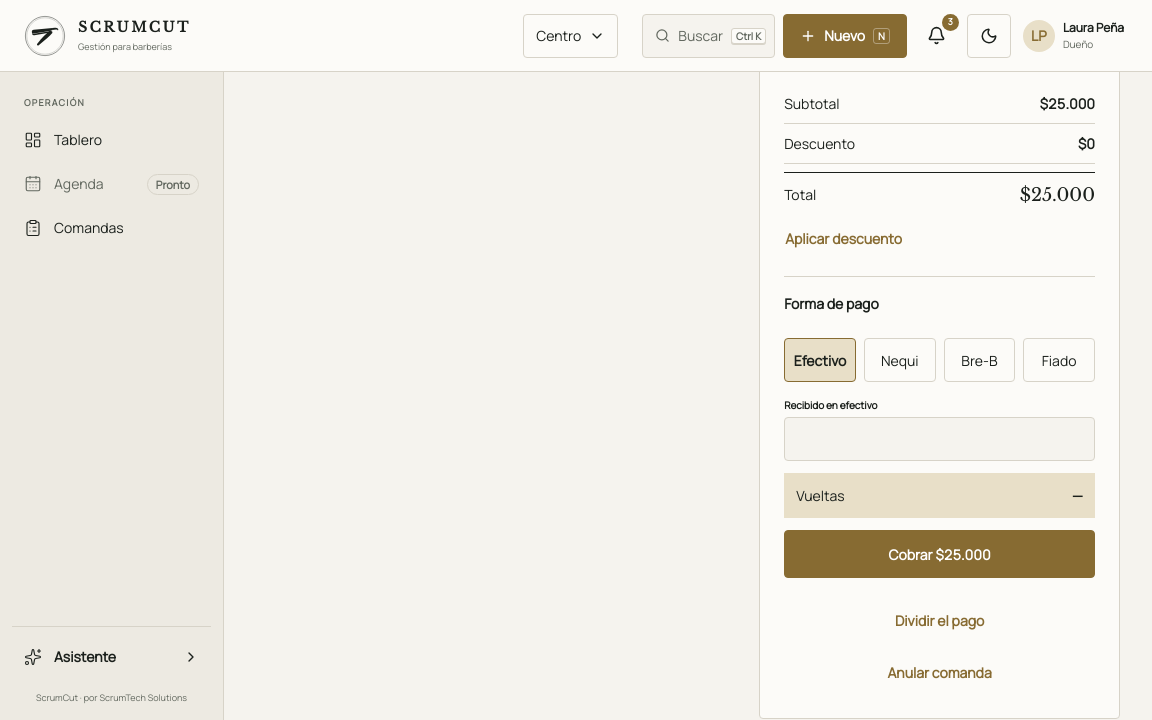
Scenario: cobro de una comanda › un doble clic en Cobrar envía una sola petición
(page scrolled)
Click the radio button labelled "Nequi". click: point(900, 360)
box: x1=864 y1=338 x2=936 y2=382
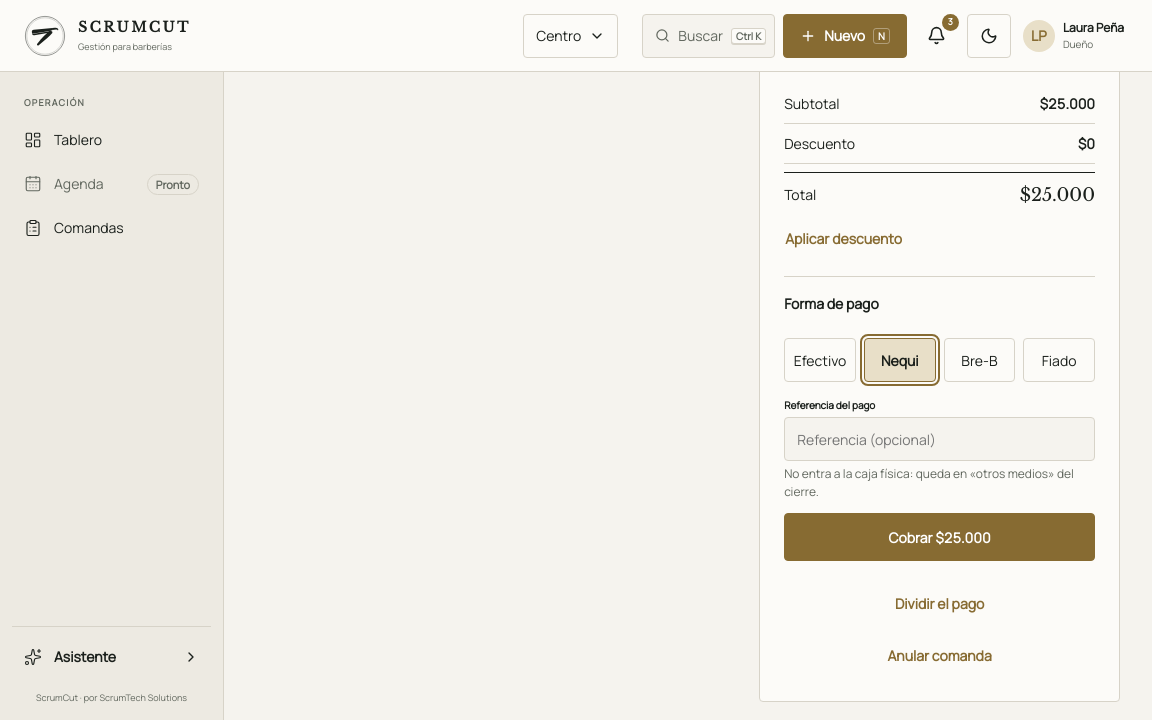
Double-click the button "Cobrar $25.000" at point(940, 537), box x1=784 y1=513 x2=1095 y2=561
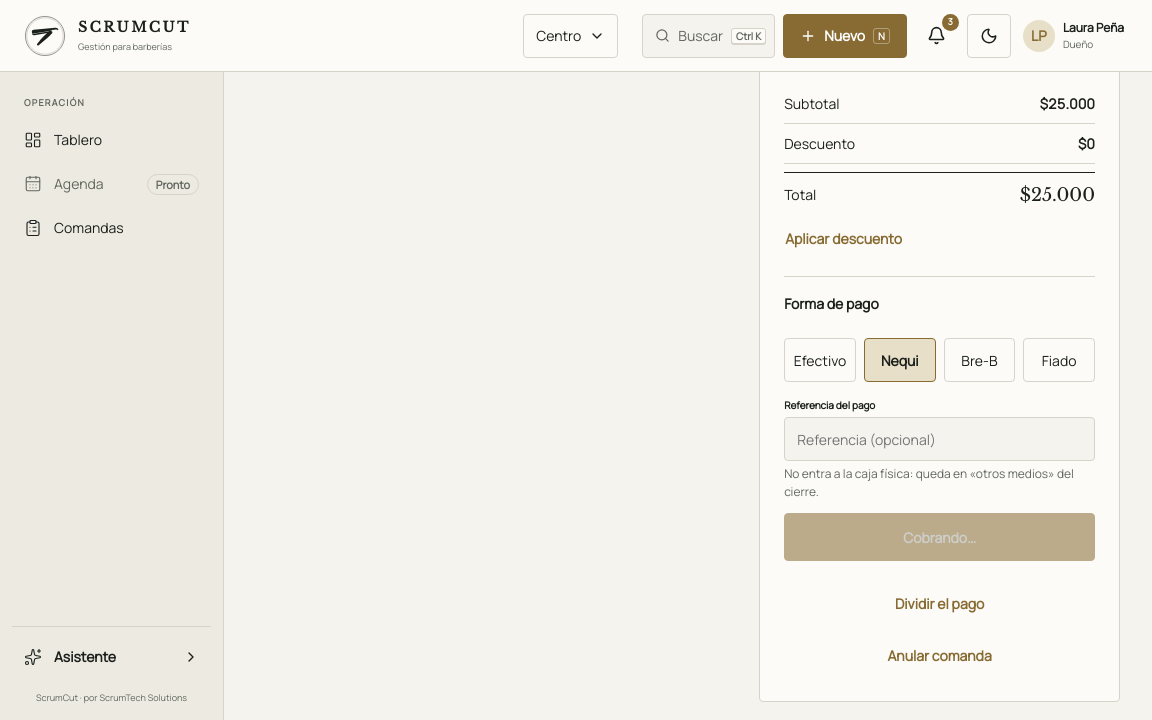
Result: the button "Cobrando…" is disabled at x1=784 y1=513 x2=1095 y2=561
